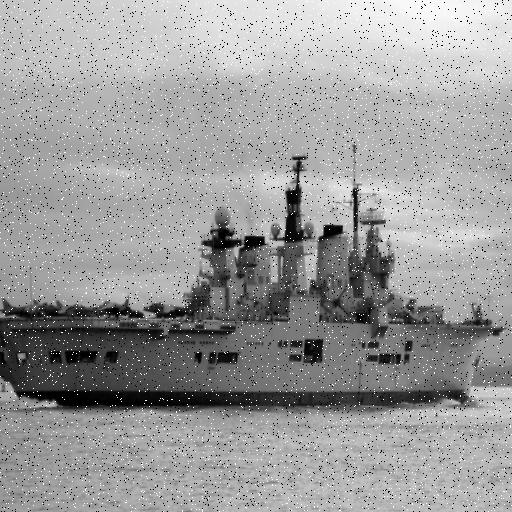Portanaves: (1, 137, 511, 415)
